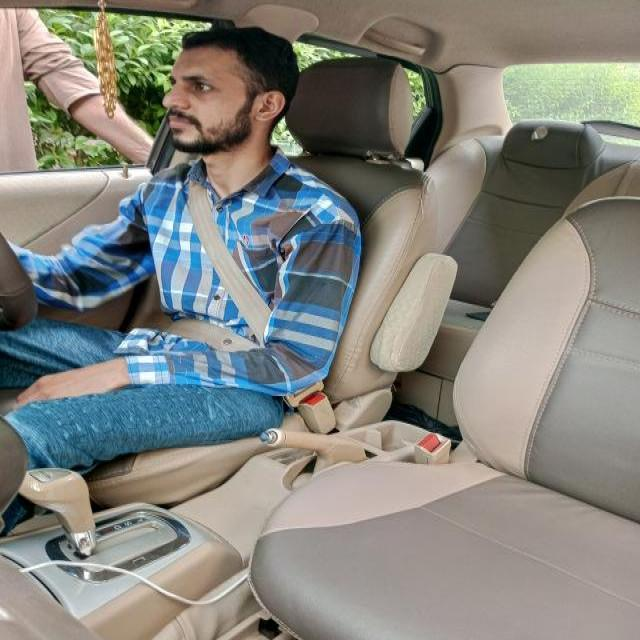seatbelt: (100, 138, 384, 492)
